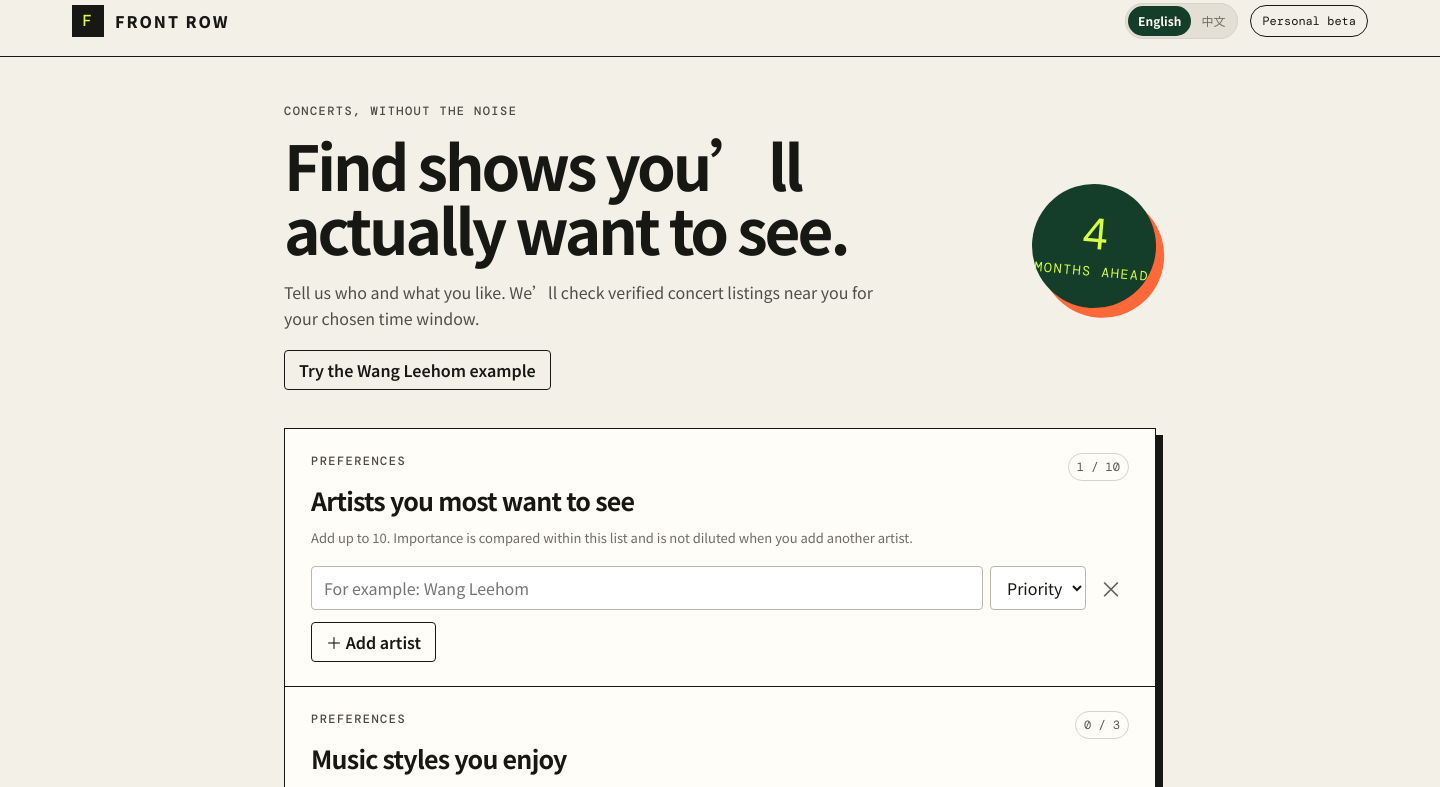
Scenario: simple preference form › loads a confirmed Oakland example without exposing its coordinates
Step 1. Click the button "Try the Wang Leehom example" → point(417, 370), box [284,350,551,390]
(page scrolled)
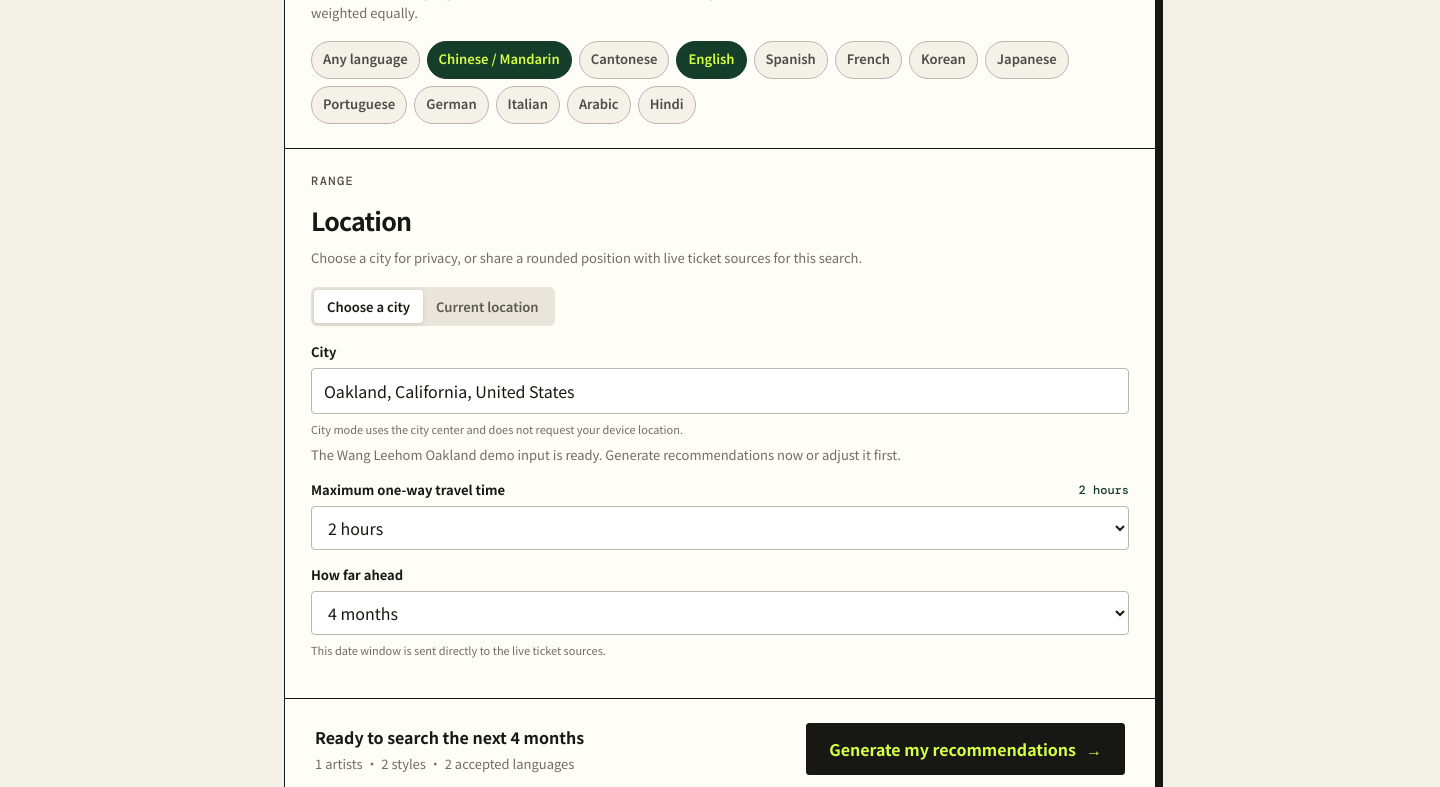
Expected: the dropdown labelled "City" holds "Oakland, California, United States", [311,368,1129,414]
